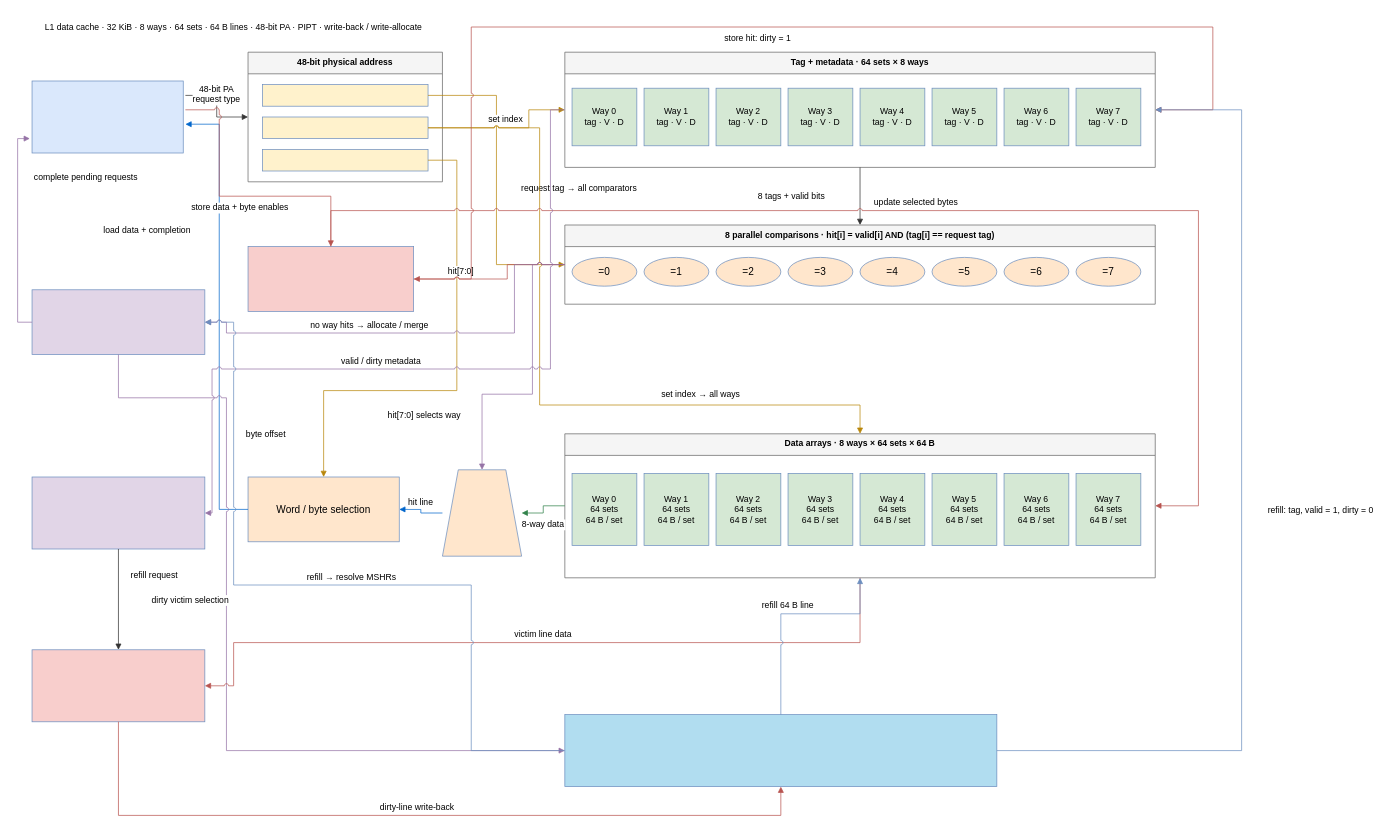
Image size: 1387x834. Some labels were removed from this diagram. Each missing label, with the centre of its shape:
"Byte offset [5:0]" belongs at point (345, 160).
"CPU load/store interface PA · request type store data · byte enables" belongs at point (107, 116).
"L2 interface refill requests · returned lines · dirty write-backs" belongs at point (780, 750).
"MSHRs track outstanding misses merge same-line requests" belongs at point (118, 322).
"Replacement invalid way first otherwise tree-PLRU" belongs at point (118, 512).
"Set index [11:6]" belongs at point (345, 127).
"Store-hit update selected way + byte enables" belongs at point (330, 278).
"Tag [47:12]" belongs at point (345, 95).
"Way-select mux" belongs at point (482, 512).
"Write-back buffer dirty victim lines" belongs at point (118, 685).
